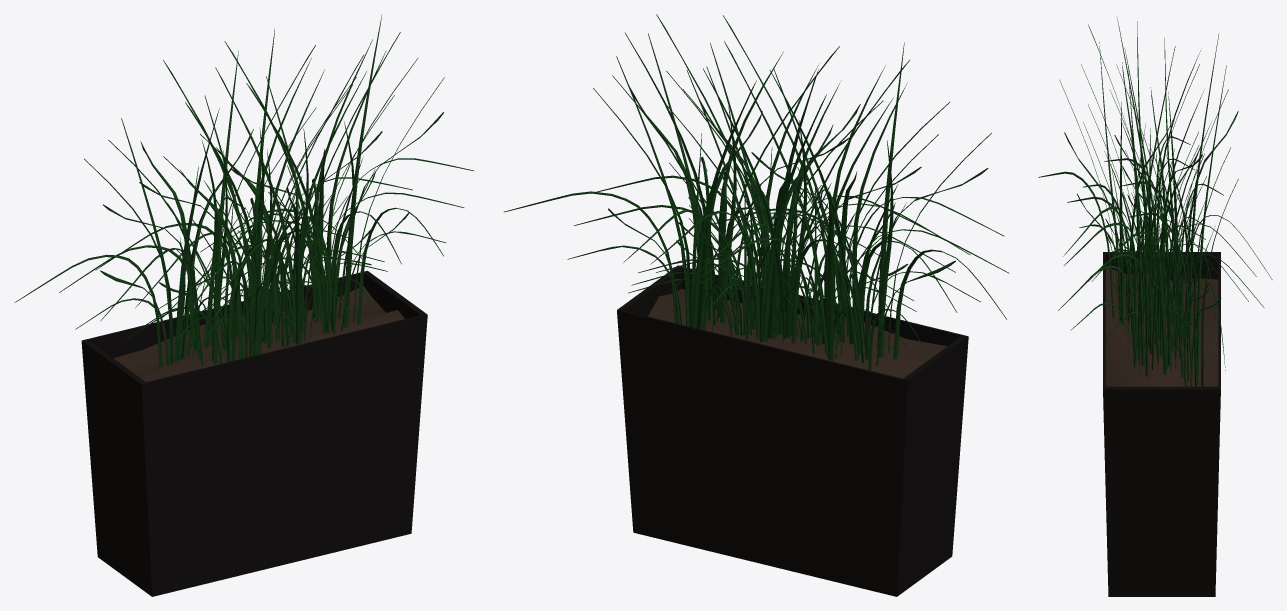
The model's file is poprawadoniczki2.fbx.
The picture shows the model from 3 angles, left to right: view 1: azimuth 30°, elevation 25°; view 2: azimuth 150°, elevation 25°; view 3: azimuth 270°, elevation 25°; orthographic projection. The views are drawn at different scales.
Visible parts, largest first — view 1: Cube.002, Grass_Pampas, Plane.001; view 2: Cube.002, Grass_Pampas, Plane.001; view 3: Cube.002, Grass_Pampas, Plane.001.
Part boxes in pixels (bbox=[...]): Cube.002: bbox=[81, 270, 427, 596]; Grass_Pampas: bbox=[14, 15, 473, 368]; Plane.001: bbox=[113, 286, 404, 381]; Cube.002: bbox=[617, 265, 968, 596]; Grass_Pampas: bbox=[504, 14, 1009, 370]; Plane.001: bbox=[648, 288, 946, 378]; Cube.002: bbox=[1103, 252, 1220, 596]; Grass_Pampas: bbox=[1038, 17, 1272, 388]; Plane.001: bbox=[1105, 268, 1218, 386].
Size of the model in its own units: 91.84 by 88.96 by 39.66.
